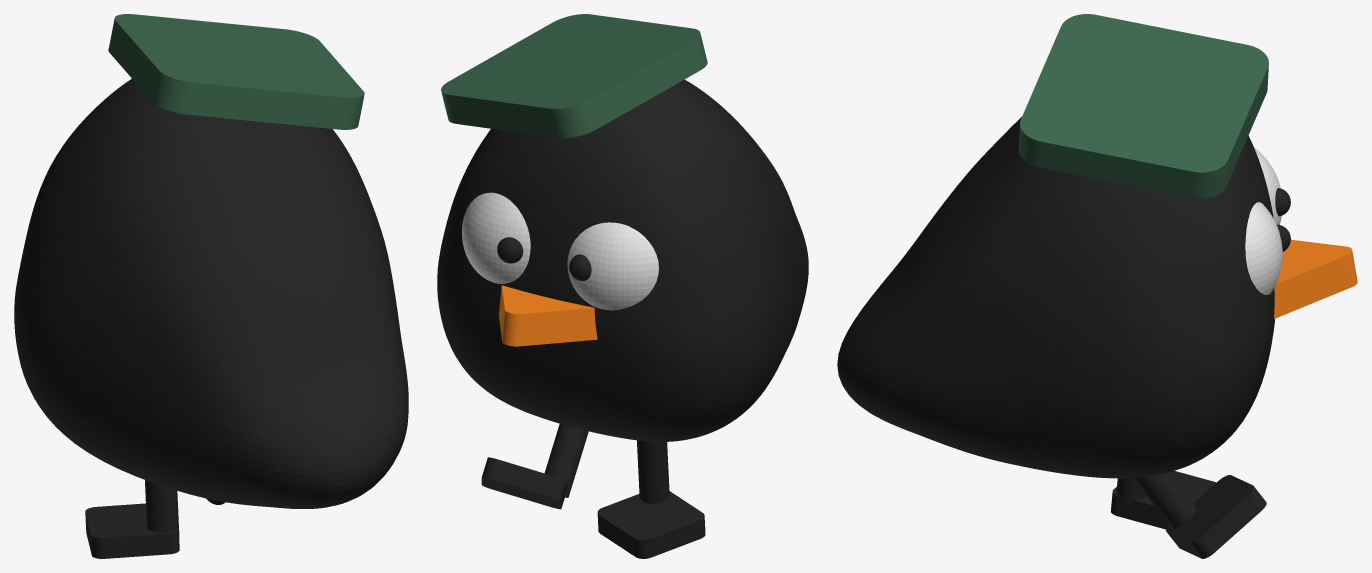
The model's file is character.fbx.
3 renders of one model, left to right at view 1: azimuth 30°, elevation 25°; view 2: azimuth 150°, elevation 25°; view 3: azimuth 270°, elevation 25°, orthographic. The views are drawn at different scales.
Parts seen in each view (by area): view 1: body, Cube, Cube.003, leg right; view 2: body, Cube, eye right, Cube.003, eye left, Cube.001, mouse, Cube.004, leg right, leg left, Sphere.001, Sphere.004; view 3: body, Cube, Cube.001, eye left, Cube.004, mouse, Cube.003, leg left, eye right.
Part boxes in pixels (left/top/right/bottom): body: left=14, top=79, right=408, bottom=508; Cube: left=108, top=14, right=364, bottom=129; Cube.003: left=85, top=503, right=179, bottom=558; leg right: left=145, top=480, right=179, bottom=535; body: left=437, top=79, right=808, bottom=441; Cube: left=441, top=14, right=707, bottom=138; eye right: left=567, top=222, right=658, bottom=310; Cube.003: left=597, top=491, right=705, bottom=558; eye left: left=462, top=192, right=530, bottom=283; Cube.001: left=481, top=457, right=567, bottom=509; mouse: left=498, top=295, right=597, bottom=346; Cube.004: left=501, top=285, right=594, bottom=329; leg right: left=637, top=440, right=669, bottom=503; leg left: left=544, top=424, right=588, bottom=497; Sphere.001: left=497, top=237, right=523, bottom=263; Sphere.004: left=569, top=254, right=591, bottom=280; body: left=837, top=117, right=1274, bottom=478; Cube: left=1018, top=14, right=1268, bottom=198; Cube.001: left=1166, top=475, right=1266, bottom=558; eye left: left=1245, top=202, right=1282, bottom=294; Cube.004: left=1274, top=239, right=1355, bottom=294; mouse: left=1274, top=260, right=1357, bottom=318; Cube.003: left=1110, top=471, right=1216, bottom=529; leg left: left=1133, top=472, right=1196, bottom=527; eye right: left=1254, top=147, right=1281, bottom=224.
Size of the model in its own units: 517 by 753 by 718.
